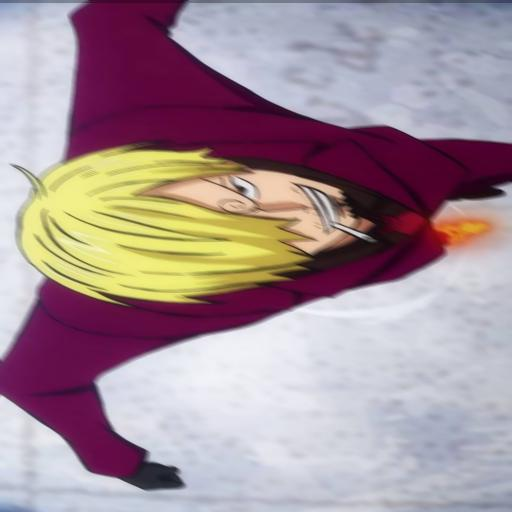sanji: (20, 137, 370, 307)
